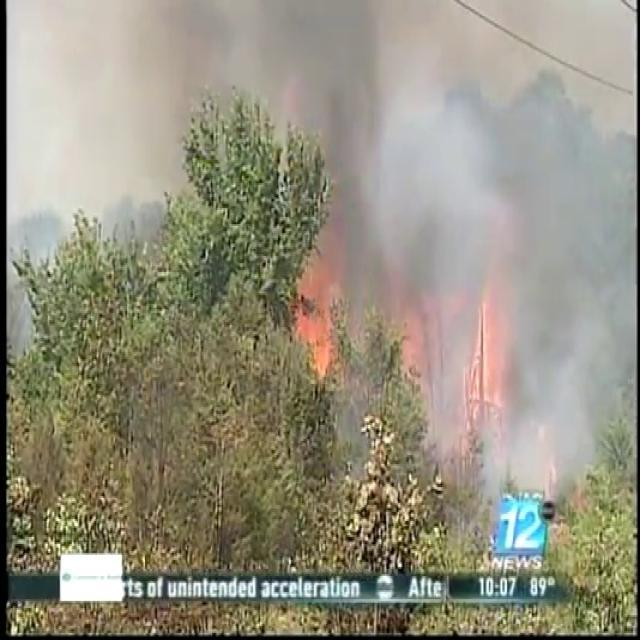Fire: (292, 245, 346, 391)
Smoke: (288, 1, 636, 532)
